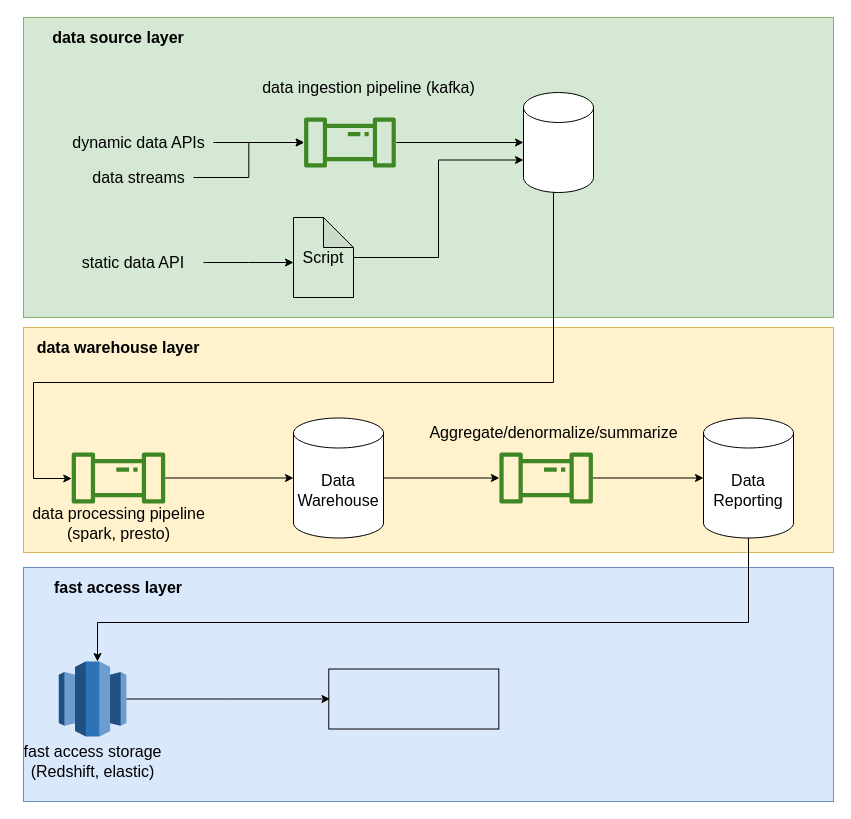
This 851x819 diagram has some shape labels left out. Here are the shapes that lost their labels. From the top down, the box of each, then its label:
(522, 92, 594, 192): Raw Storage (S3)
(328, 668, 499, 729): BI/data visualization (tableau, abacus, qlik, jupyter)
